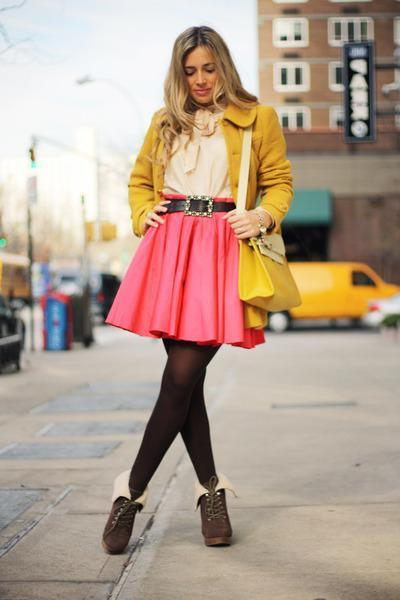jacket: (124, 98, 294, 236)
short sleeve shirt: (158, 102, 244, 199)
skirt: (102, 196, 267, 352)
